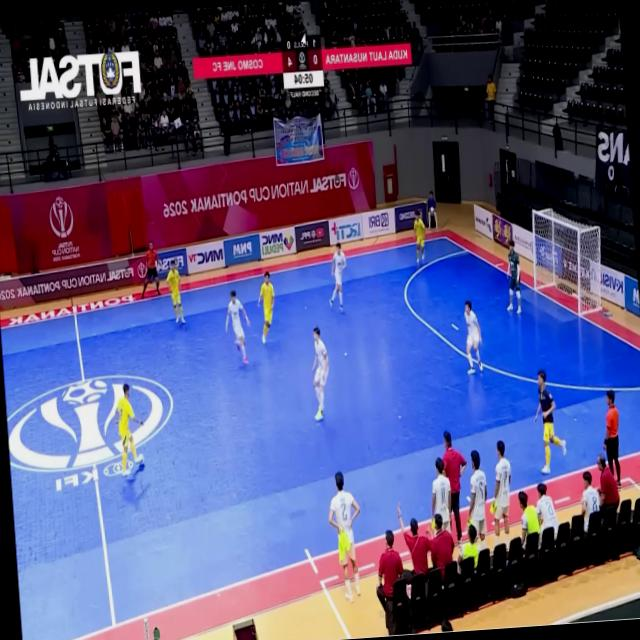keeper: (506, 239, 520, 314)
official: (442, 432, 465, 544)
players: (328, 473, 360, 602), (534, 370, 565, 474), (115, 384, 142, 476), (490, 441, 510, 543), (467, 450, 486, 549), (224, 291, 249, 364), (312, 327, 328, 420), (431, 458, 450, 531), (463, 300, 481, 374), (580, 472, 599, 535), (536, 483, 557, 539), (257, 271, 273, 344), (328, 243, 345, 311), (166, 260, 184, 323), (413, 210, 425, 265)
referee: (603, 390, 620, 487)
